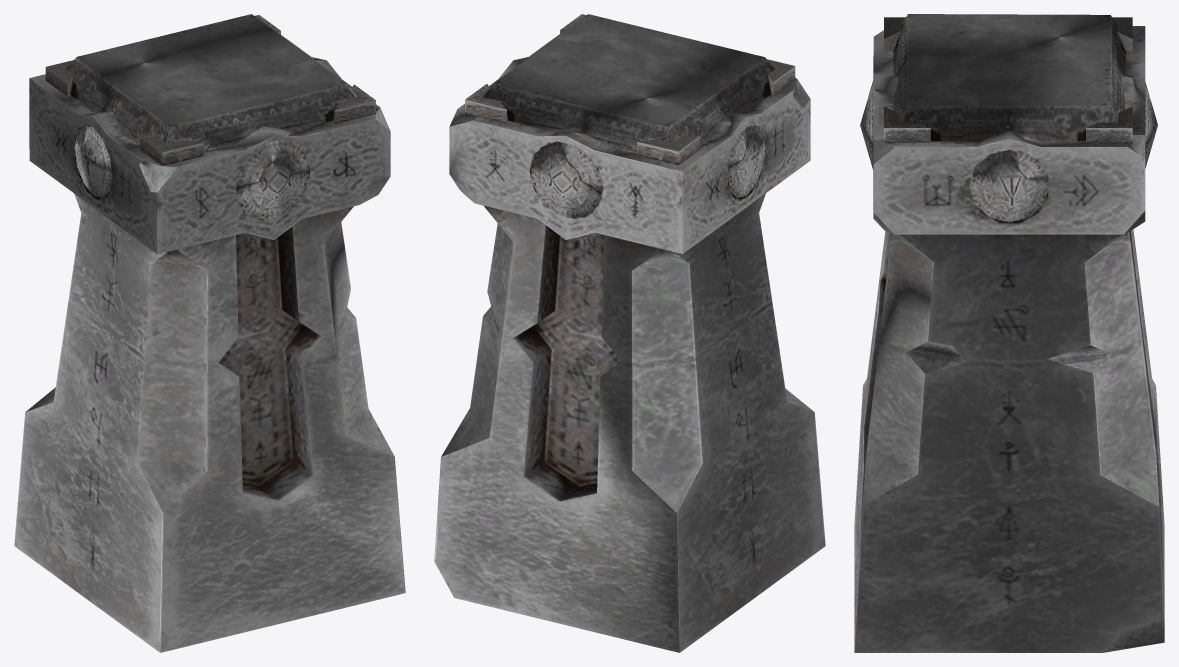
Rendered from poe-microwave.glb.
3 views of the same model, side by side, from view 1: azimuth 30°, elevation 25°; view 2: azimuth 150°, elevation 25°; view 3: azimuth 270°, elevation 25° (orthographic). The views are drawn at different scales.
Parts seen in each view (by area): view 1: poe-microwave_mesh; view 2: poe-microwave_mesh; view 3: poe-microwave_mesh.
Part boxes in pixels (x1,y1,x2,y2): poe-microwave_mesh: (14, 14, 405, 652); poe-microwave_mesh: (434, 14, 825, 652); poe-microwave_mesh: (854, 14, 1164, 652).
Bounding box in the file's own units: 0.5038 × 0.953 × 0.5057.
1 material, 1 textured.
